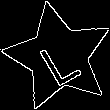L_NW: (32, 27, 85, 87)
